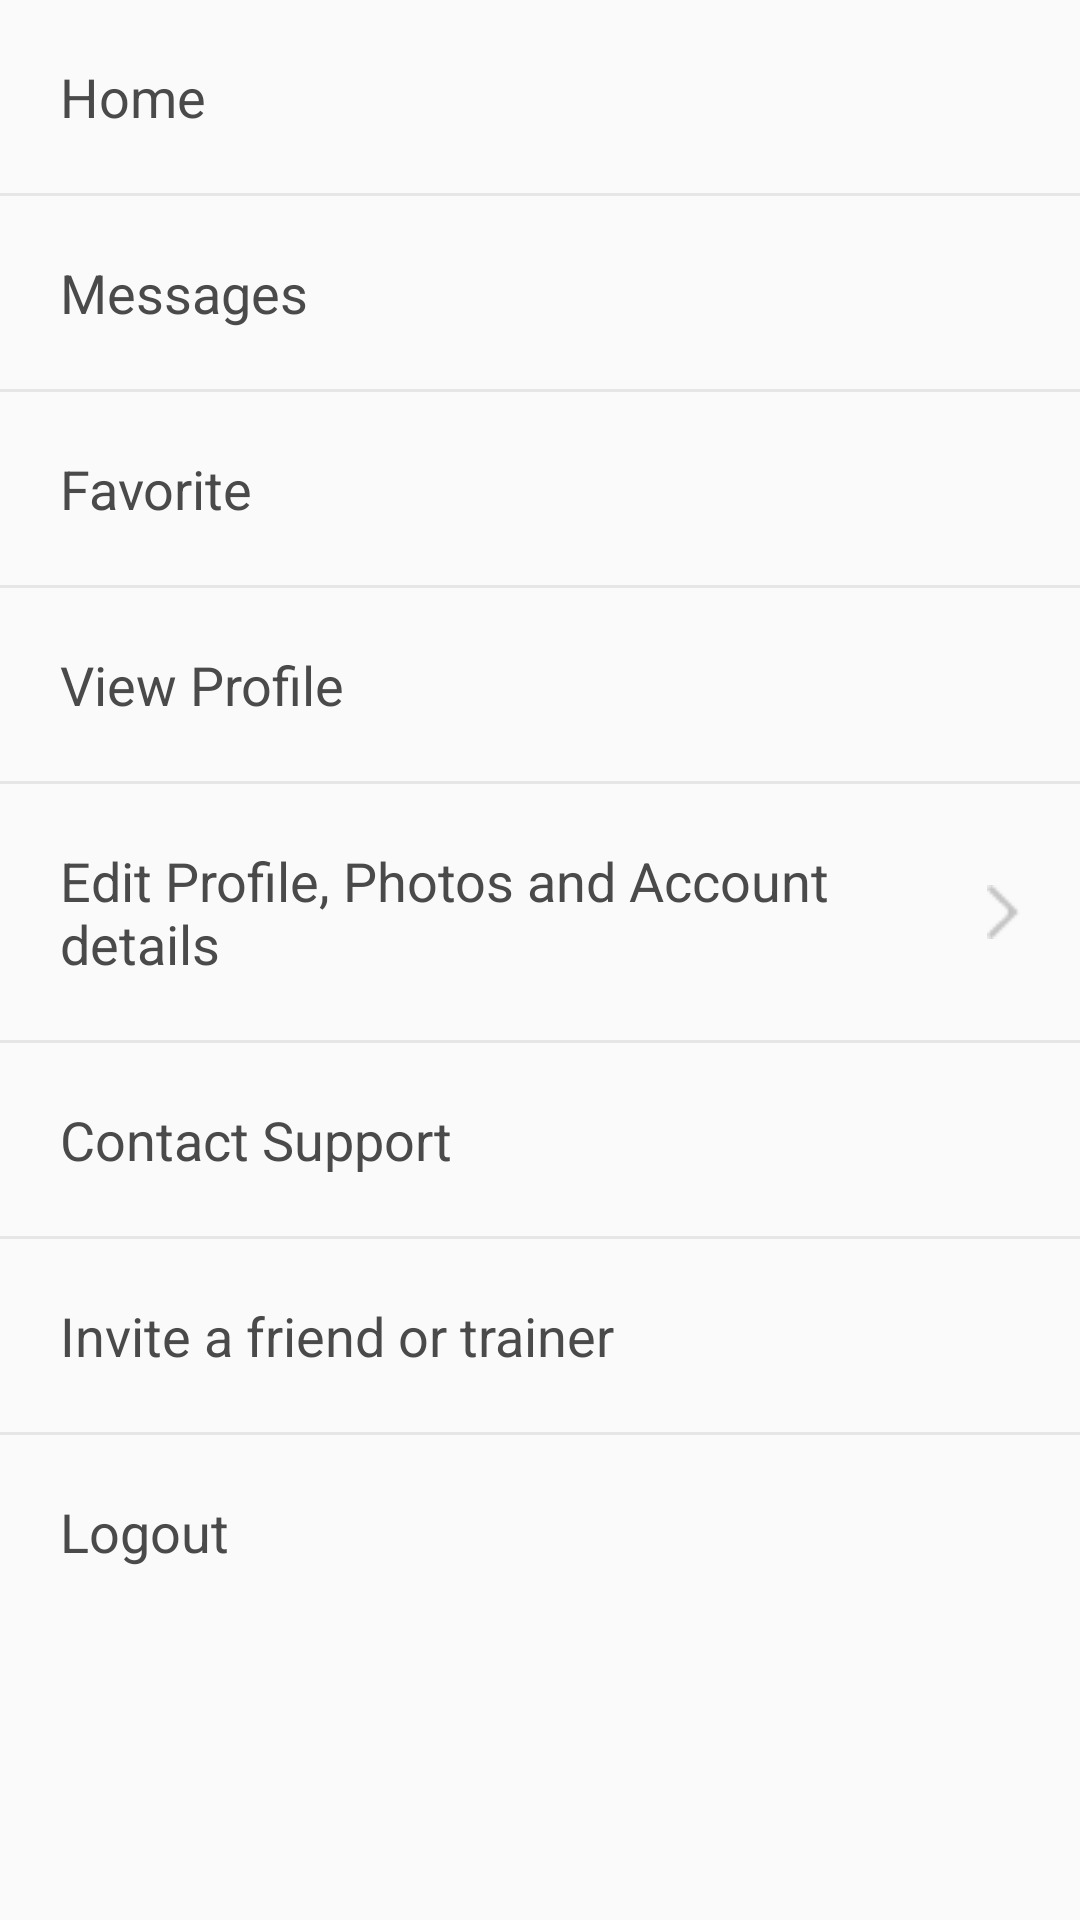

Named icons in this screenshot (1080 × 1920) and their bounding boxes, (x1, y1, x2, y2):
right arrow: (987, 885, 1017, 939)
